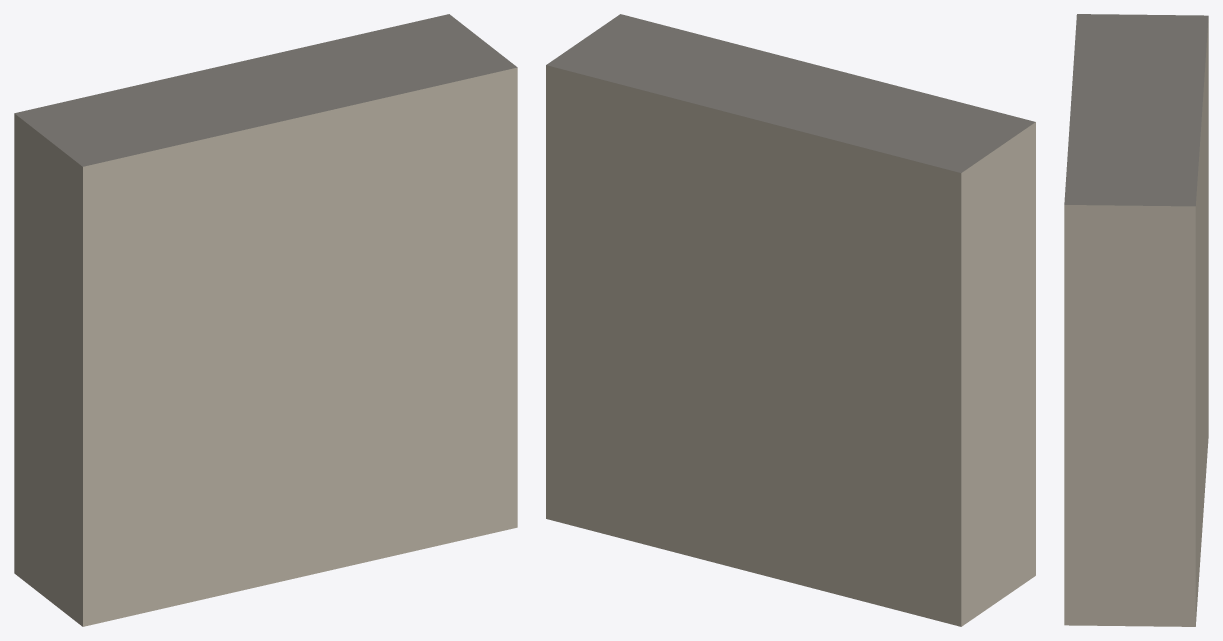
The picture shows the model from 3 angles, left to right: view 1: azimuth 30°, elevation 25°; view 2: azimuth 150°, elevation 25°; view 3: azimuth 270°, elevation 25°; orthographic projection. The views are drawn at different scales.
Visible parts, largest first — view 1: HP-w1424106480; view 2: HP-w1424106480; view 3: HP-w1424106480.
Part boxes in pixels (x1,y1,x2,y2): HP-w1424106480: [14, 14, 517, 626]; HP-w1424106480: [546, 14, 1035, 626]; HP-w1424106480: [1064, 14, 1208, 626].
Size of the model in its own units: 17.67 by 18 by 5.6.
